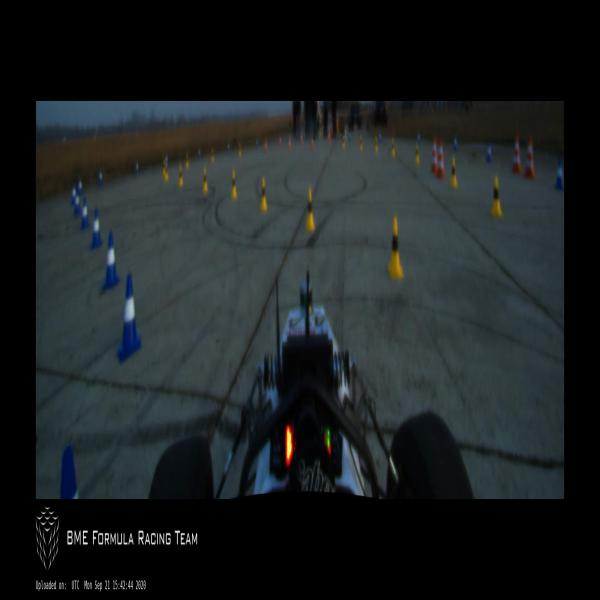blue_cone: (116, 275, 141, 359), (61, 444, 79, 499), (104, 231, 120, 288), (91, 208, 103, 248), (554, 157, 564, 192), (82, 198, 89, 229), (75, 189, 81, 215), (486, 142, 492, 164), (98, 170, 103, 188), (70, 183, 74, 205), (78, 179, 83, 196), (454, 134, 458, 152), (197, 146, 201, 160), (135, 161, 139, 174), (417, 130, 420, 146), (378, 130, 381, 143), (349, 129, 352, 141), (227, 141, 230, 153), (256, 138, 258, 150)
large_orange_cone: (524, 136, 534, 178), (512, 133, 521, 173), (436, 137, 445, 177), (430, 136, 436, 173)
orange_cone: (264, 140, 268, 154), (299, 132, 303, 146), (288, 138, 291, 153), (311, 136, 314, 150), (279, 135, 282, 147), (328, 132, 330, 143)
yellow_cone: (387, 218, 404, 278), (489, 174, 503, 218), (304, 189, 315, 232), (449, 156, 458, 187), (260, 179, 268, 212), (202, 170, 209, 193), (231, 173, 237, 199), (414, 143, 420, 166), (390, 138, 396, 158), (178, 165, 183, 188), (164, 163, 169, 182), (374, 136, 379, 154), (185, 151, 189, 169), (210, 146, 214, 163), (359, 135, 363, 151), (238, 143, 242, 159), (162, 159, 166, 174), (342, 135, 345, 149)
